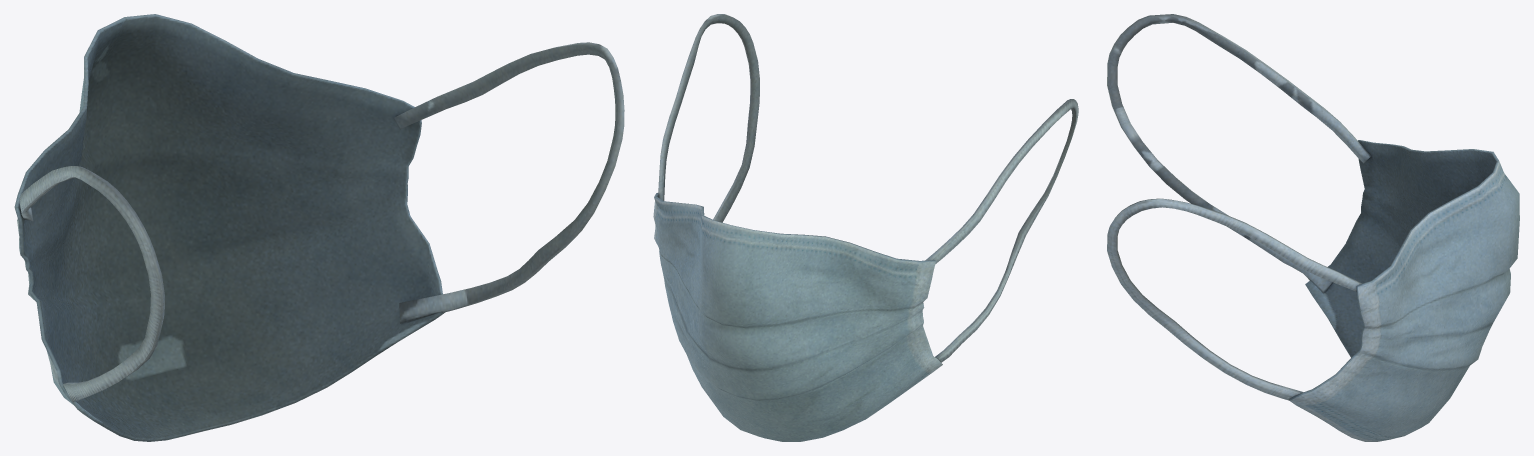
Rendered from mask.glb.
3 views of the same model, side by side, from view 1: azimuth 30°, elevation 25°; view 2: azimuth 150°, elevation 25°; view 3: azimuth 270°, elevation 25° (orthographic). The views are drawn at different scales.
Parts seen in each view (by area): view 1: Mask; view 2: Mask; view 3: Mask.
Boxes of the visible parts, box(x1,y1,x2,y2) form: Mask: box(14, 14, 624, 441); Mask: box(653, 14, 1078, 441); Mask: box(1107, 14, 1519, 441).
Size of the model in its own units: 0.164 by 0.1306 by 0.1515.
Materials: 1 (1 with a texture image).
